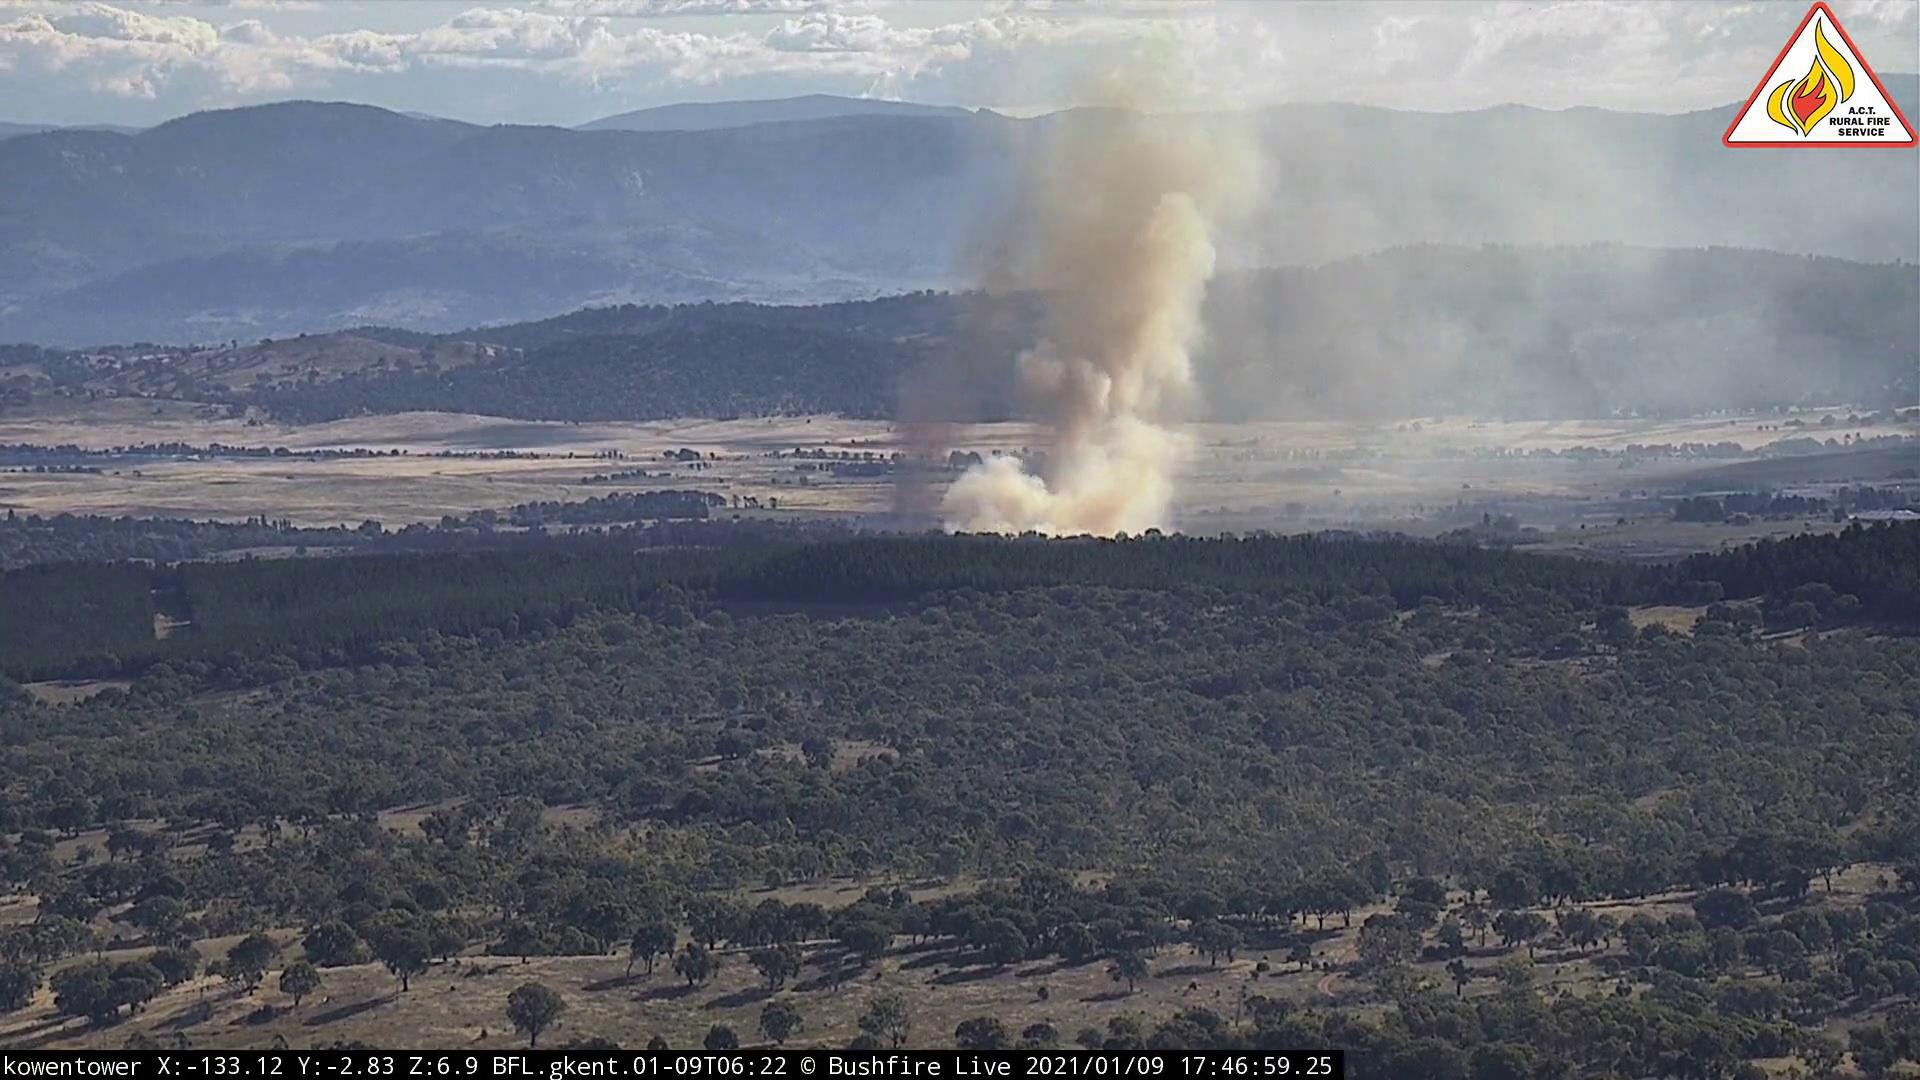instance_salient_object: (837, 3, 1704, 550)
